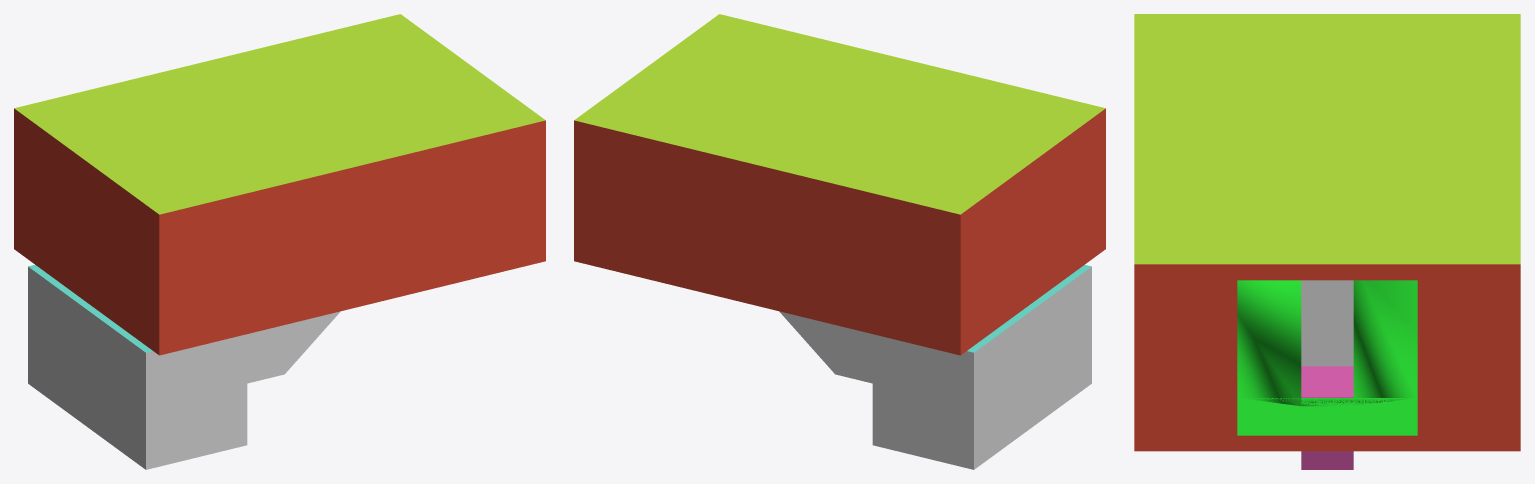
The model's file is simpleBasementGarageNoTextMaterials.fbx.
3 renders of one model, left to right at view 1: azimuth 30°, elevation 25°; view 2: azimuth 150°, elevation 25°; view 3: azimuth 270°, elevation 25°, orthographic. The views are drawn at different scales.
Parts seen in each view (by area): view 1: Куб; view 2: Куб; view 3: Куб.
Boxes of the visible parts, x1=… form: Куб: x1=14, y1=14, x2=545, y2=469; Куб: x1=574, y1=14, x2=1105, y2=469; Куб: x1=1134, y1=14, x2=1520, y2=469.
Size of the model in its own units: 690 by 453 by 450.
